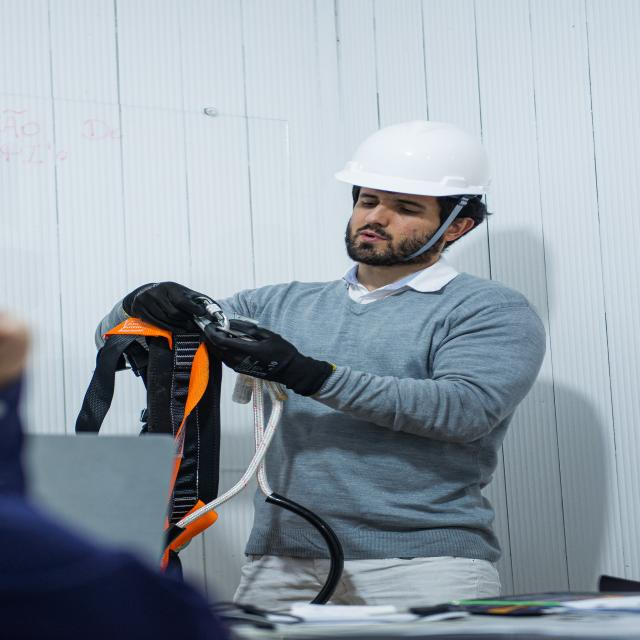capacete: (330, 117, 498, 199)
luva: (195, 316, 338, 401), (118, 280, 206, 338)
